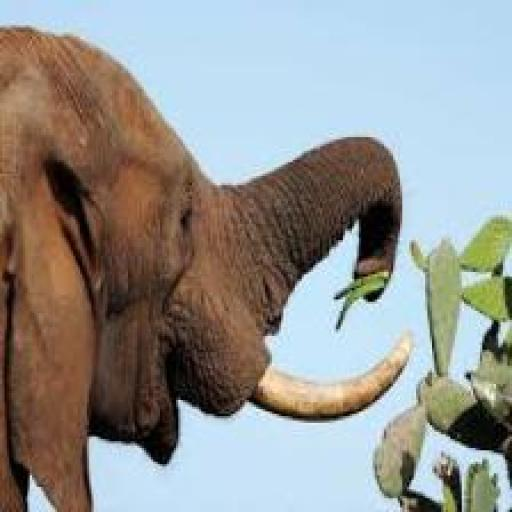Elephant: (0, 0, 57, 24)
